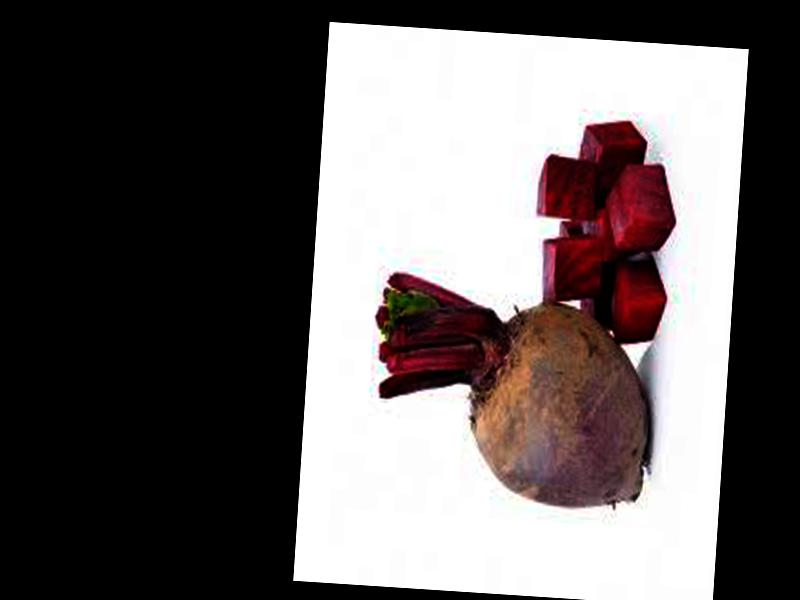Beet: (367, 272, 659, 511)
